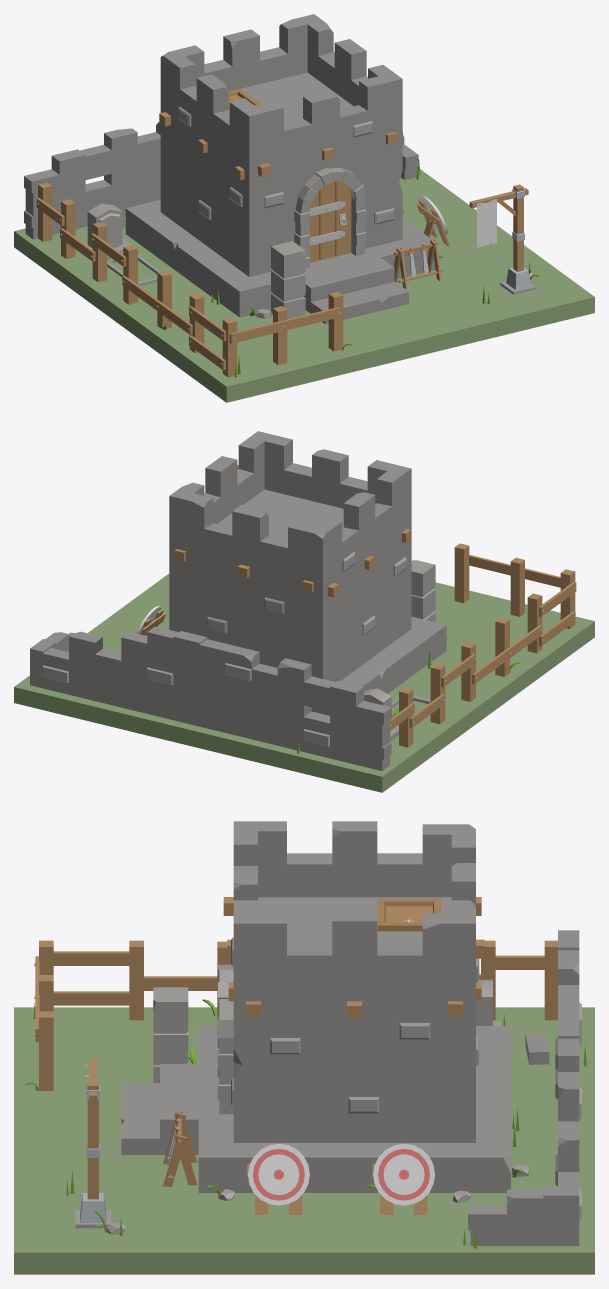
The model's file is barracks.fbx.
The picture shows the model from 3 angles, top to bottom: view 1: azimuth 30°, elevation 25°; view 2: azimuth 150°, elevation 25°; view 3: azimuth 270°, elevation 25°; orthographic projection. The views are drawn at different scales.
Visible parts, largest first — view 1: Box001, Box002, Box014, Box123, Box163, Box143, Box156, Box190, Box135, Box015, Box150, Box147 (+13 smaller); view 2: Box001, Box014, Box002, Box143, Box190, Box013, Box115, Box135, Box147, Box116, Box133, Box120 (+6 smaller); view 3: Box001, Box002, Box014, Box013, Box195, Box008, Box143, Box123, Box190, Box114, Box156, Box133 (+12 smaller).
Boxes of the visible parts, left/top/right/bottom form: Box001: left=125, top=14, right=437, bottom=324; Box002: left=14, top=169, right=594, bottom=402; Box014: left=24, top=122, right=160, bottom=239; Box123: left=294, top=167, right=366, bottom=268; Box163: left=310, top=181, right=351, bottom=262; Box143: left=271, top=241, right=305, bottom=319; Box156: left=469, top=184, right=528, bottom=271; Box190: left=178, top=107, right=394, bottom=224; Box135: left=229, top=307, right=340, bottom=343; Box015: left=84, top=203, right=130, bottom=255; Box150: left=393, top=239, right=442, bottom=289; Box147: left=122, top=275, right=192, bottom=334; Box001: left=169, top=431, right=446, bottom=715; Box014: left=43, top=626, right=391, bottom=770; Box002: left=14, top=573, right=594, bottom=792; Box143: left=411, top=560, right=435, bottom=622; Box190: left=207, top=552, right=406, bottom=635; Box013: left=30, top=632, right=73, bottom=688; Box115: left=454, top=543, right=469, bottom=603; Box135: left=469, top=555, right=560, bottom=587; Box147: left=472, top=624, right=542, bottom=683; Box116: left=510, top=558, right=524, bottom=616; Box133: left=174, top=529, right=411, bottom=597; Box120: left=430, top=663, right=445, bottom=724; Box001: left=121, top=821, right=510, bottom=1192; Box002: left=14, top=1007, right=594, bottom=1274; Box014: left=555, top=930, right=581, bottom=1220; Box013: left=468, top=1187, right=579, bottom=1245; Box195: left=372, top=1143, right=434, bottom=1214; Box008: left=247, top=1143, right=309, bottom=1214; Box143: left=153, top=987, right=188, bottom=1082; Box123: left=217, top=964, right=233, bottom=1114; Box190: left=231, top=937, right=479, bottom=1113; Box114: left=377, top=898, right=440, bottom=931; Box156: left=86, top=1058, right=99, bottom=1199; Box133: left=223, top=897, right=484, bottom=1018.
Bounding box in the file's own units: 360 × 191 × 360.
